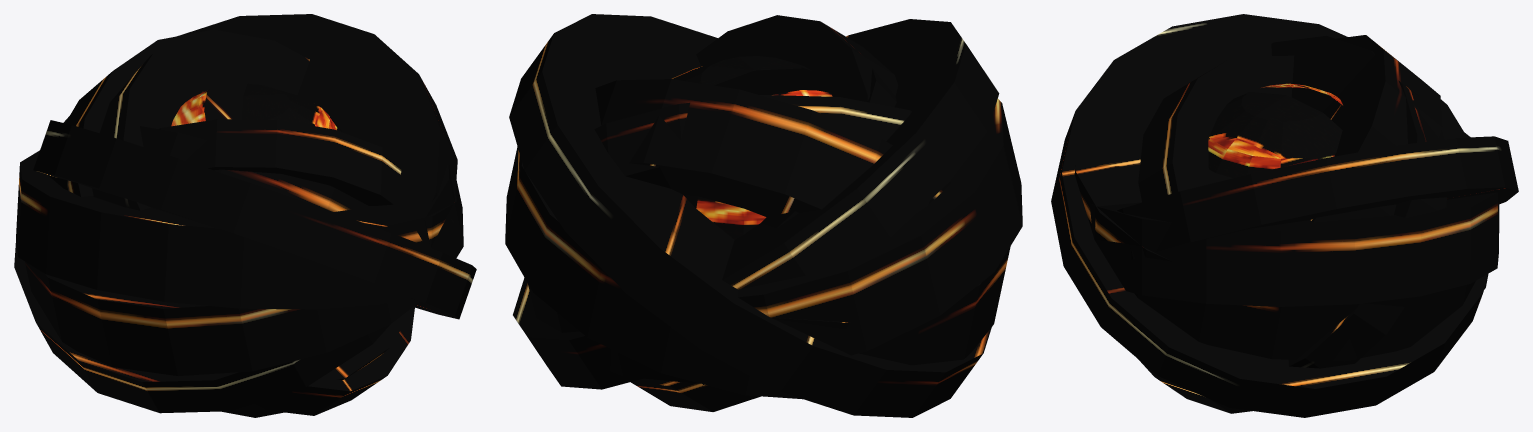
Rendered from frame_015.obj.
The picture shows the model from 3 angles, left to right: view 1: azimuth 30°, elevation 25°; view 2: azimuth 150°, elevation 25°; view 3: azimuth 270°, elevation 25°; orthographic projection. The views are drawn at different scales.
Parts seen in each view (by area): view 1: cylinder, sphere; view 2: cylinder, sphere; view 3: cylinder, sphere.
Boxes of the visible parts, left/top/right/bottom form: cylinder: left=14, top=14, right=476, bottom=417; sphere: left=171, top=83, right=343, bottom=132; cylinder: left=505, top=14, right=1022, bottom=417; sphere: left=672, top=56, right=832, bottom=239; cylinder: left=1051, top=14, right=1518, bottom=417; sphere: left=1208, top=83, right=1343, bottom=177.
Size of the model in its own units: 1.06 by 0.8038 by 1.12.
5 materials, 5 textured.
